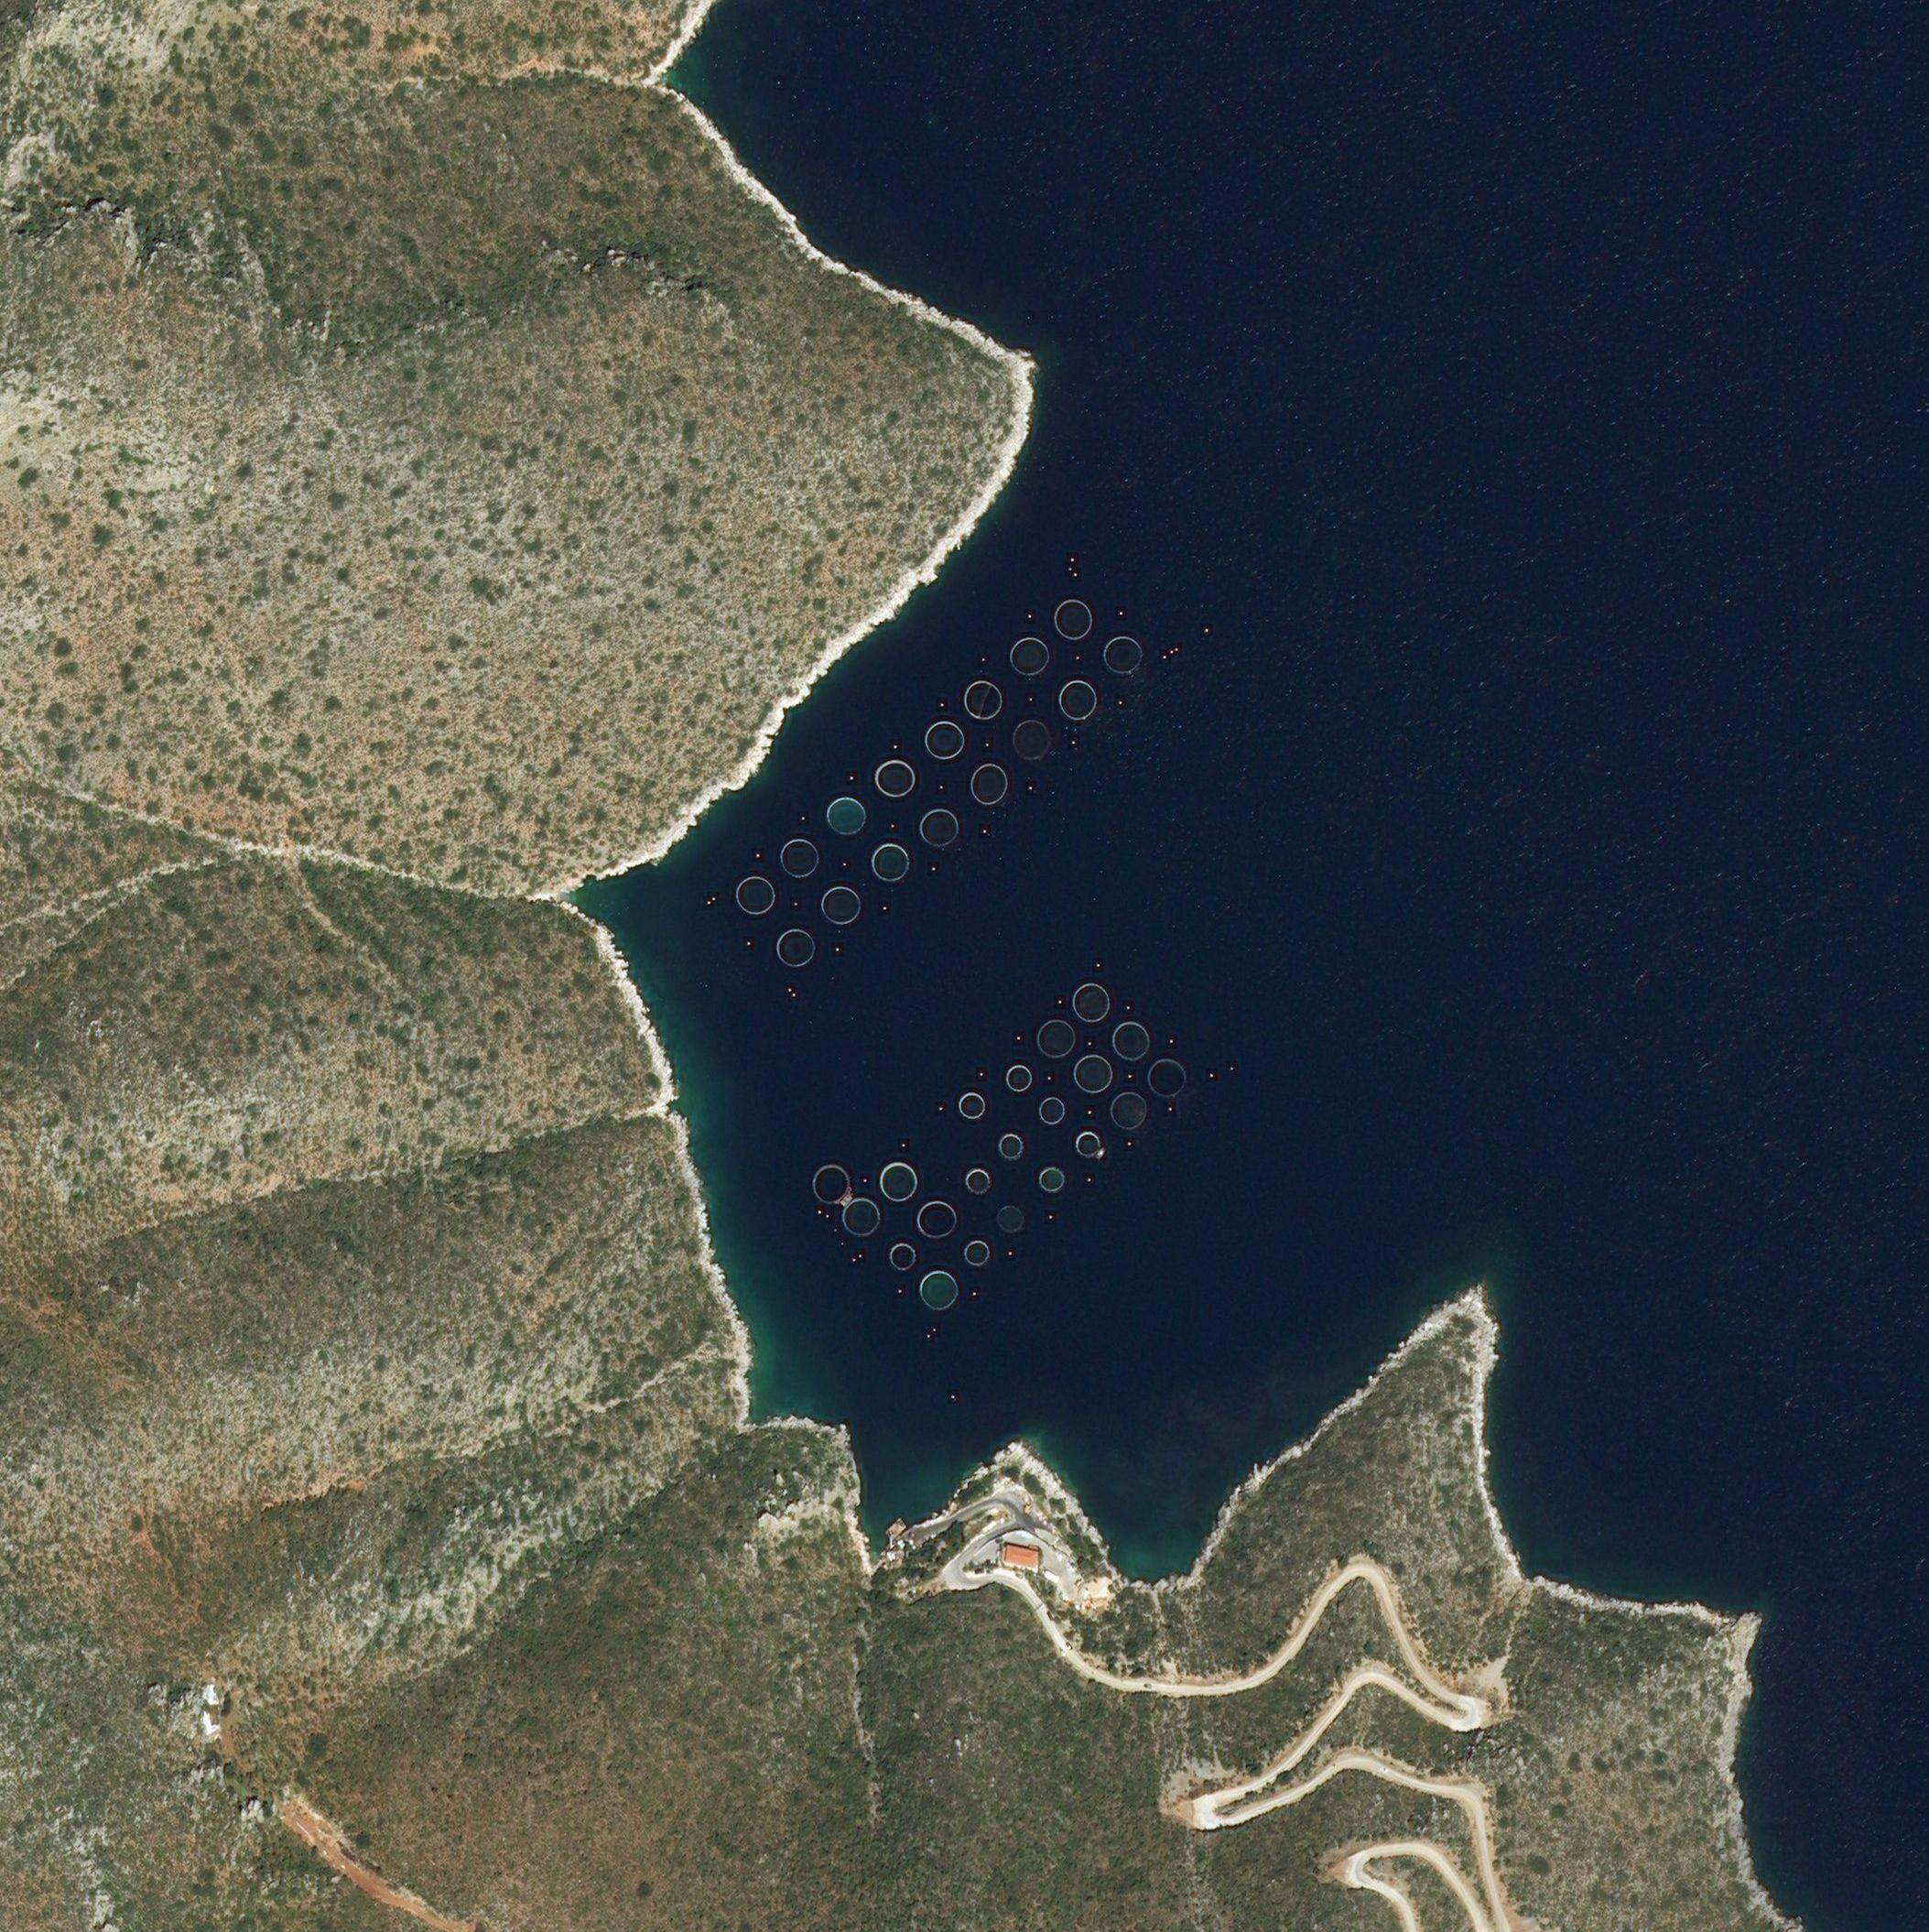c: (1101, 632, 1145, 676), (1012, 715, 1055, 761), (873, 756, 917, 798), (867, 839, 910, 883), (839, 1196, 883, 1238), (1056, 676, 1097, 722), (968, 759, 1009, 805), (961, 678, 1003, 721), (924, 719, 966, 761), (820, 885, 862, 927), (735, 872, 777, 915), (917, 1268, 959, 1310), (811, 1164, 853, 1206), (913, 1199, 957, 1240), (1053, 593, 1092, 639), (919, 807, 959, 849), (825, 795, 867, 835), (779, 839, 821, 879), (878, 1160, 919, 1203), (1072, 980, 1111, 1024), (1009, 636, 1049, 676), (775, 927, 816, 968), (1146, 1058, 1187, 1098), (1113, 1019, 1150, 1063), (1109, 1091, 1148, 1130), (995, 1203, 1025, 1234), (889, 1240, 917, 1273), (961, 1238, 991, 1268), (1005, 1061, 1033, 1093), (963, 1166, 991, 1196), (1039, 1164, 1067, 1194), (957, 1091, 986, 1120), (1037, 1097, 1065, 1125), (996, 1132, 1023, 1160)
